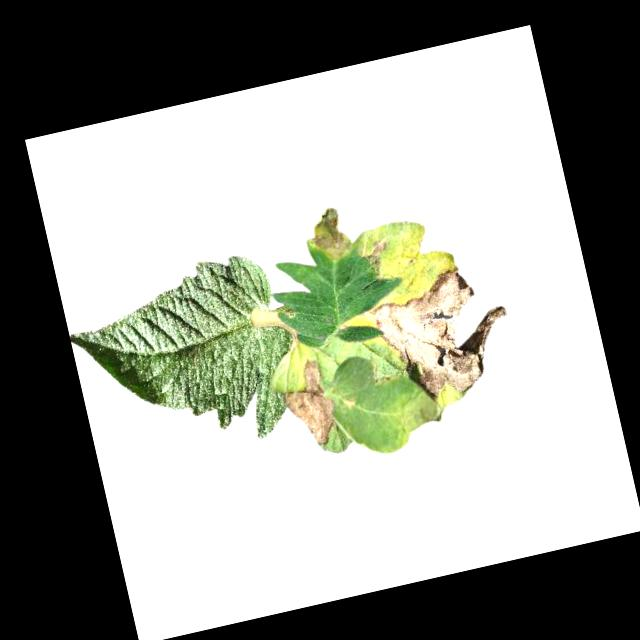Late_blight: (359, 257, 522, 411), (277, 354, 343, 453), (300, 205, 356, 268), (402, 389, 444, 431), (360, 236, 395, 279), (275, 303, 296, 322)
